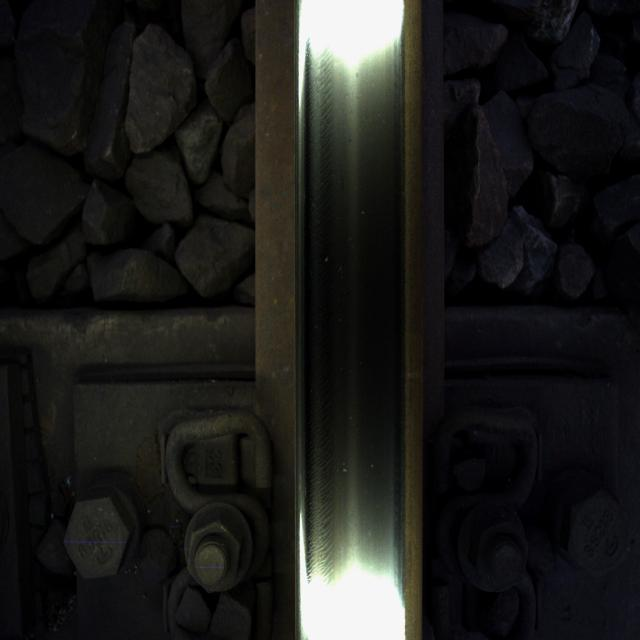break: (309, 48, 396, 558)
